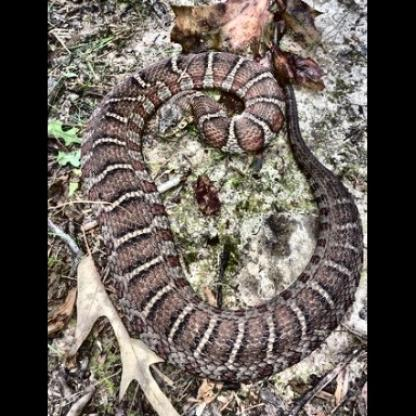Snake: (62, 24, 360, 413)
